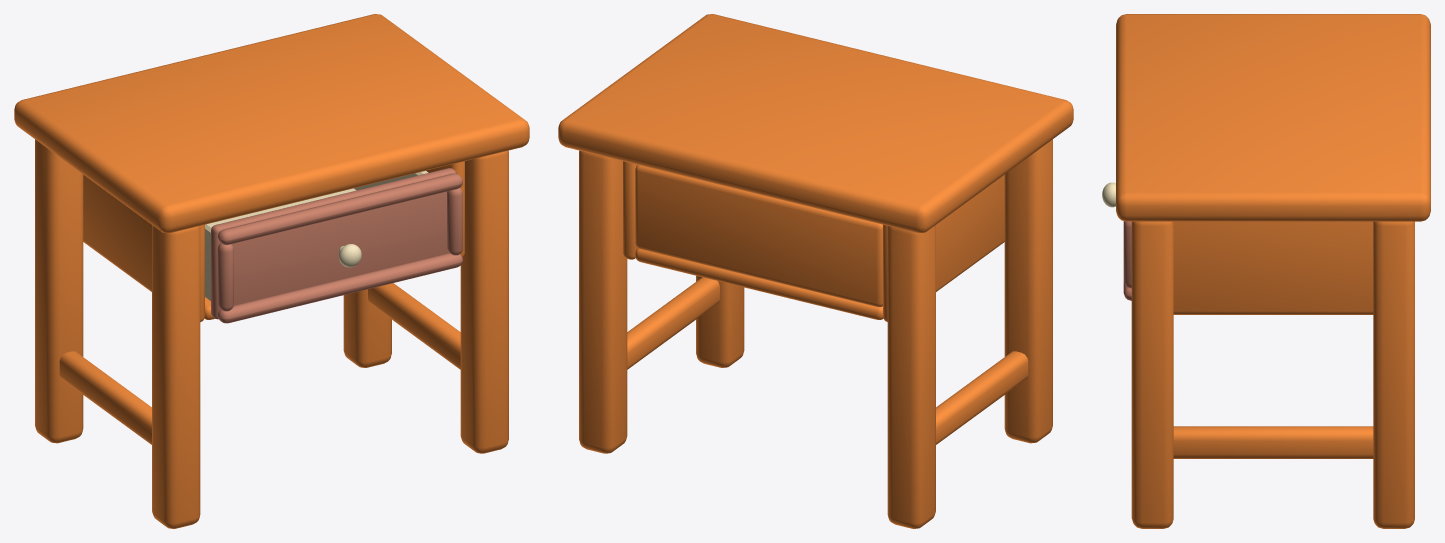
File: banquinho_gaveta_laranja.glb
3 renders of one model, left to right at view 1: azimuth 30°, elevation 25°; view 2: azimuth 150°, elevation 25°; view 3: azimuth 270°, elevation 25°, orthographic. The views are drawn at different scales.
Visible parts, largest first — view 1: banquinho_gaveta_laranja, gaveta_1; view 2: banquinho_gaveta_laranja; view 3: banquinho_gaveta_laranja, gaveta_1.
Boxes of the visible parts, left/top/right/bottom form: banquinho_gaveta_laranja: left=14, top=14, right=529, bottom=528; gaveta_1: left=205, top=168, right=462, bottom=323; banquinho_gaveta_laranja: left=558, top=14, right=1073, bottom=528; banquinho_gaveta_laranja: left=1116, top=14, right=1430, bottom=528; gaveta_1: left=1102, top=182, right=1131, bottom=300.
Size of the model in its own units: 0.42 by 0.36 by 0.3133.
Materials: 1 (1 with a texture image).
